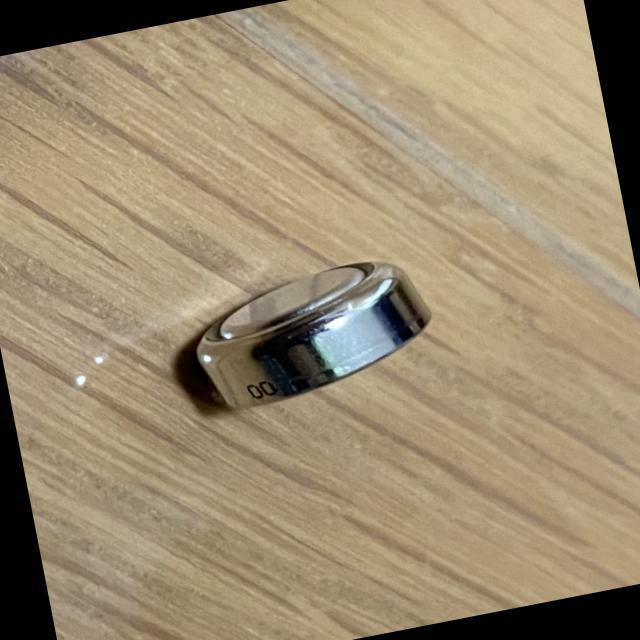COIN: (172, 246, 444, 420)
